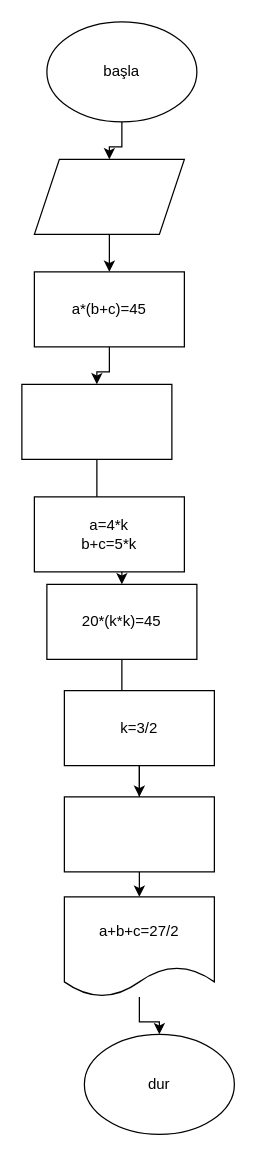
This 256x1156 diagram has some shape labels left out. The shapes that lost their labels are listed below. From the top down, each one's centre as x and y in pixels, then its label:
(108,196): a b c k
(96,421): 5a=4*(b+c)
(138,834): a+b+c=9*k
